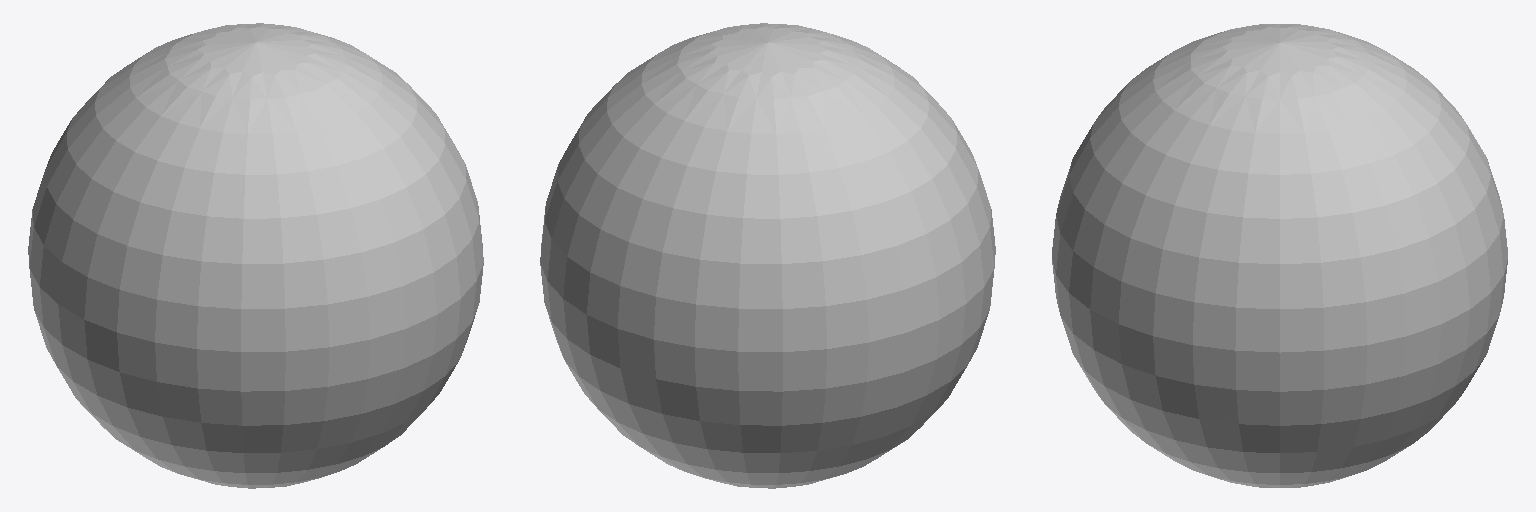
The model's file is GlassSphere_Sphere.obj.
3 renders of one model, left to right at view 1: azimuth 30°, elevation 25°; view 2: azimuth 150°, elevation 25°; view 3: azimuth 270°, elevation 25°, orthographic.
Visible parts, largest first — view 1: GlassSphere_Sphere; view 2: GlassSphere_Sphere; view 3: GlassSphere_Sphere.
Boxes of the visible parts, x1,y1,x2,y2 form: GlassSphere_Sphere: [28, 23, 483, 488]; GlassSphere_Sphere: [540, 23, 995, 488]; GlassSphere_Sphere: [1052, 24, 1507, 487].
Bounding box in the file's own units: 5.77 × 5.95 × 5.77.